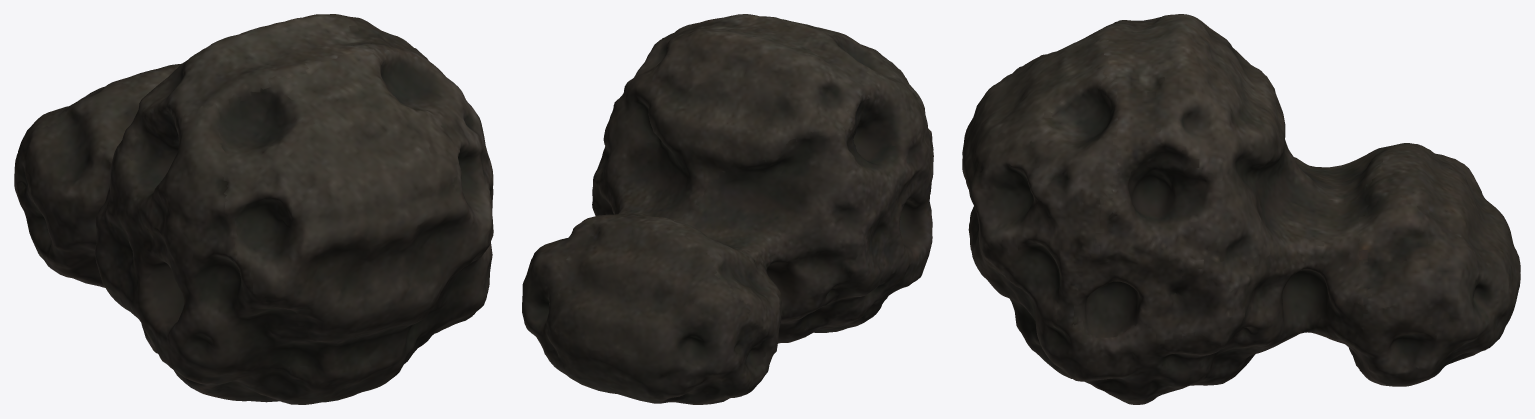
File: asteroid_rare_1_lod1.glb
3 renders of one model, left to right at view 1: azimuth 30°, elevation 25°; view 2: azimuth 150°, elevation 25°; view 3: azimuth 270°, elevation 25°, orthographic. The views are drawn at different scales.
Parts seen in each view (by area): view 1: model; view 2: model; view 3: model.
Boxes of the visible parts, x1,y1,x2,y2 form: model: (14, 14, 493, 404); model: (522, 14, 933, 404); model: (962, 14, 1520, 404).
Bounding box in the file's own units: 1.22 × 1.27 × 1.89.
Materials: 1 (1 with a texture image).
